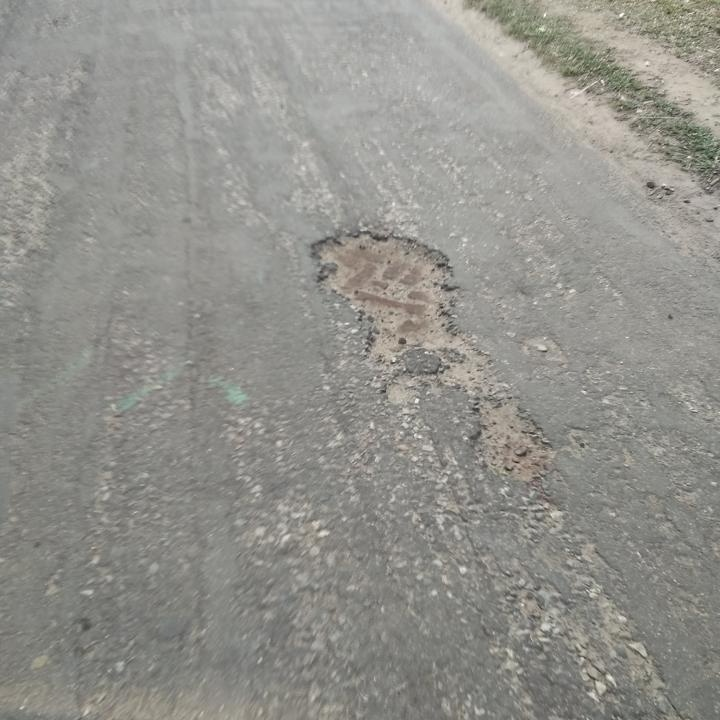pothole: (307, 222, 464, 359), (471, 393, 561, 481)
